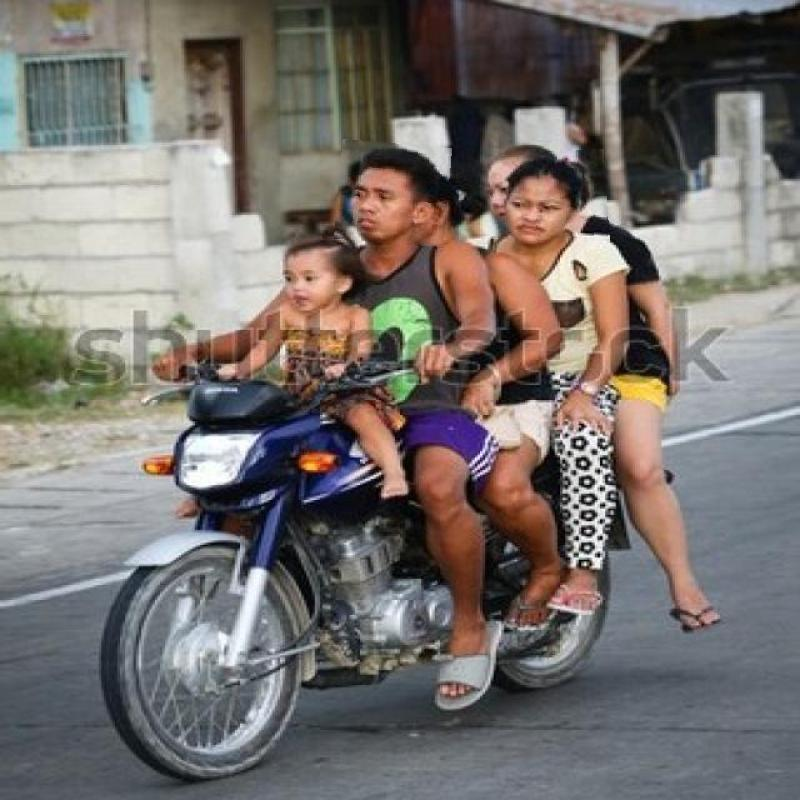nohelmet: (336, 142, 450, 246), (490, 151, 608, 251)
